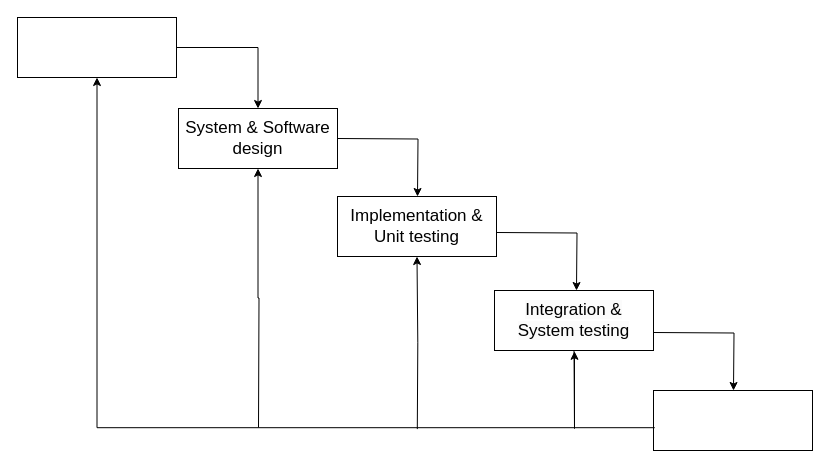
The diagram is 830 pixels wide and 468 high, and some of its shapes have lost their labels. Here are the shapes that lost their labels. From the top down, the box of each, then its label:
(16, 16, 176, 78): Requirements definition
(652, 390, 812, 450): Operation & Maintenance
